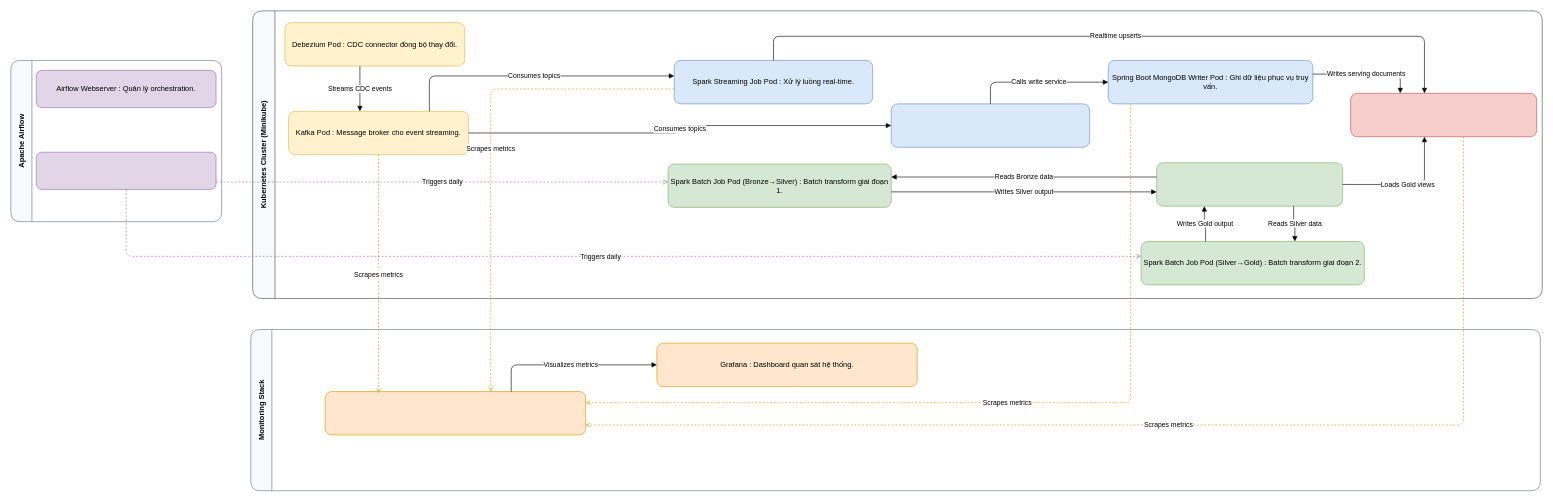
The diagram is 1553 pixels wide and 502 high, and some of its shapes have lost their labels. The centre of each missing label's shape, as x and y in pixels:
"Airflow Scheduler : Lập lịch DAG batch." goes at point (126, 170).
"MinIO Pod : Object storage Bronze/Silver/Gold." goes at point (1249, 184).
"MongoDB Pod : NoSQL serving database." goes at point (1443, 115).
"Prometheus : Thu thập metrics từ cluster." goes at point (455, 413).
"Spring Boot Kafka Consumer Pod : Đọc topic Kafka." goes at point (990, 125).
